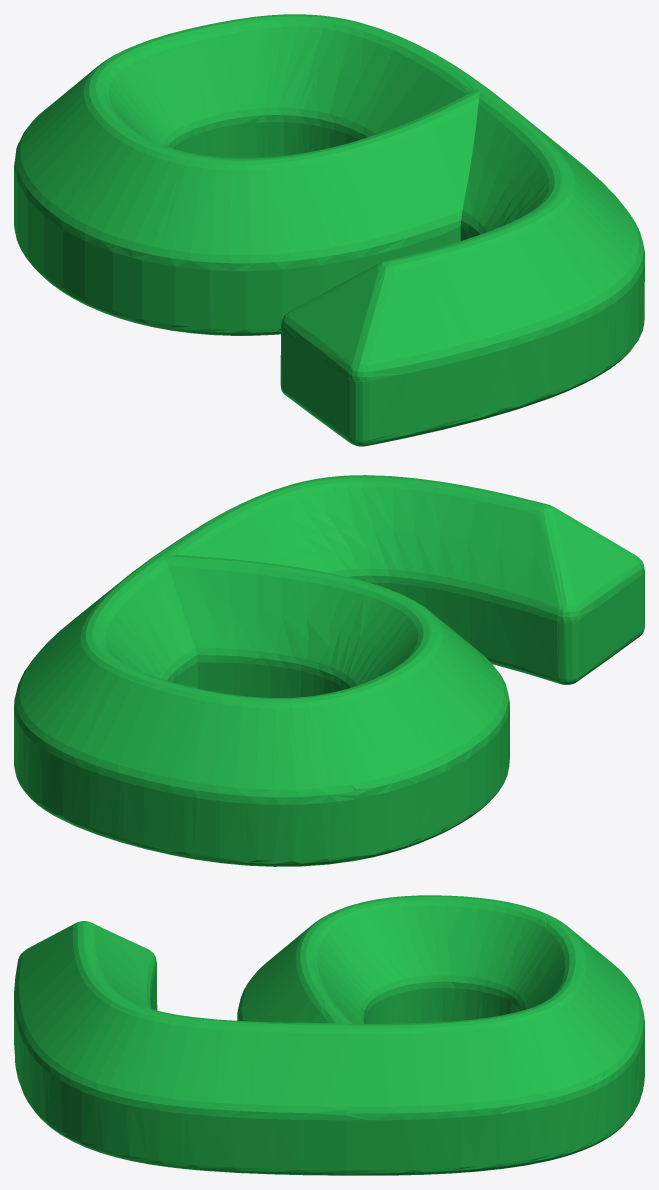
3 views of the same model, one above another, from view 1: azimuth 30°, elevation 25°; view 2: azimuth 150°, elevation 25°; view 3: azimuth 270°, elevation 25° (orthographic). The views are drawn at different scales.
Size of the model in its own units: 0.0174 by 0.00532 by 0.0247.
